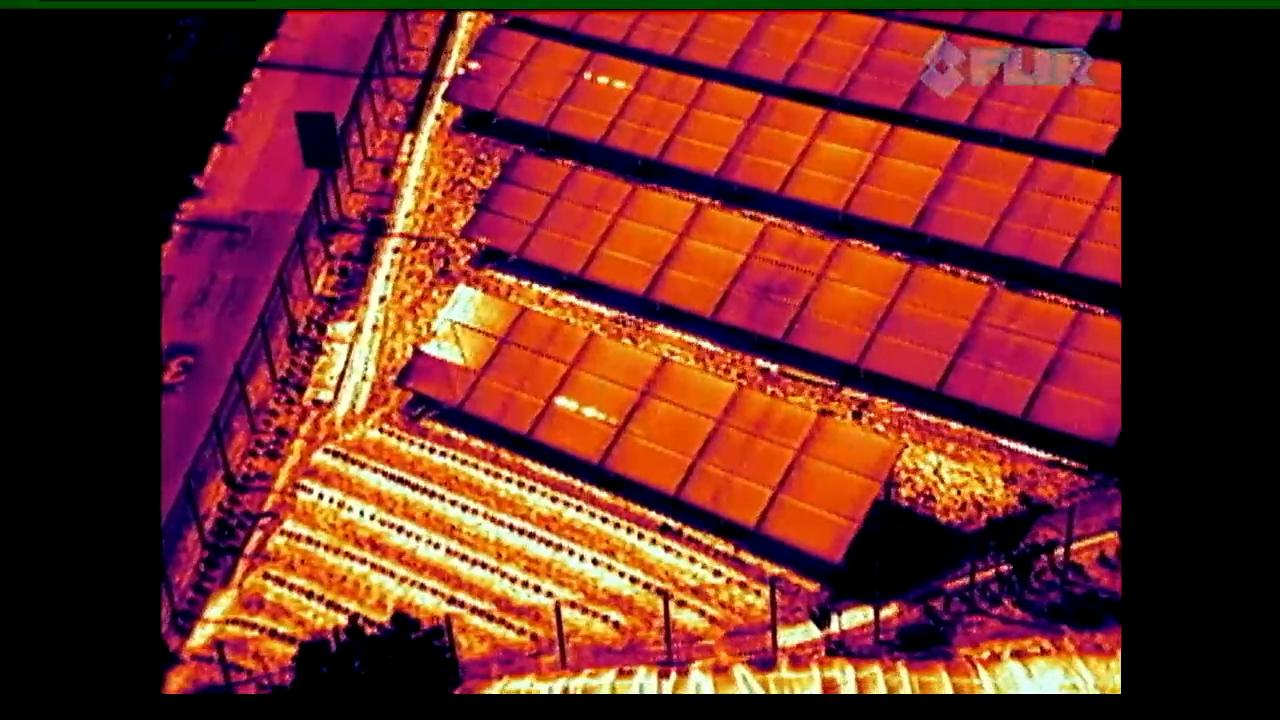hotspot: (523, 333, 666, 469), (539, 43, 651, 152), (434, 26, 536, 118)
